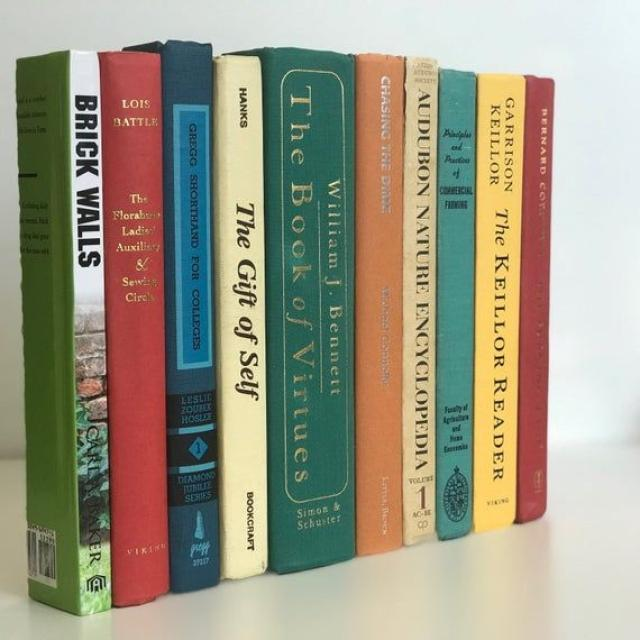book: (269, 46, 356, 575), (103, 53, 168, 609), (164, 41, 220, 592), (216, 56, 268, 579), (358, 54, 403, 558), (70, 51, 110, 614), (476, 77, 523, 531), (437, 70, 477, 542), (516, 77, 555, 524), (406, 58, 437, 546)
